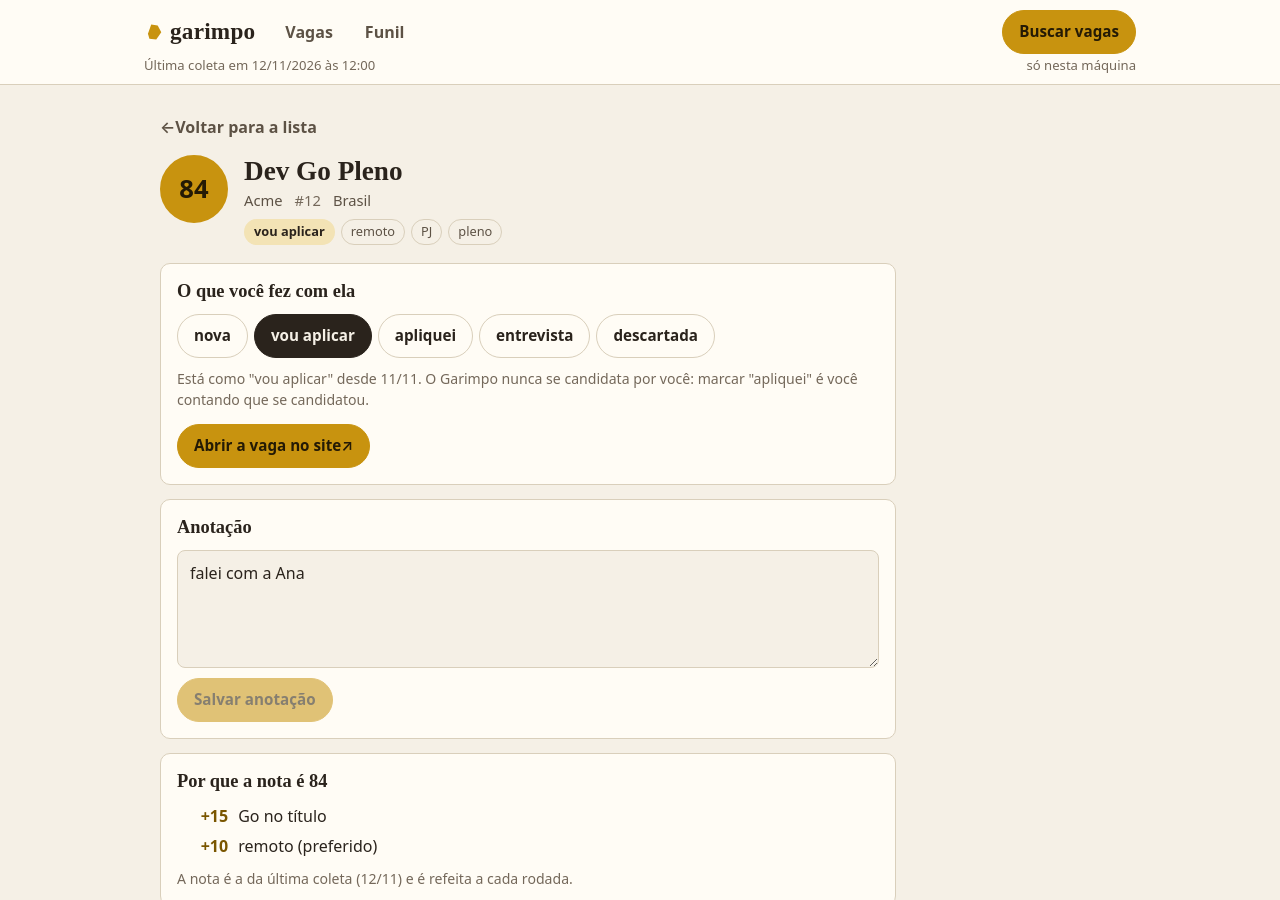
Test: the posting › marks any state from the posting
This screenshot has width=1280, height=900.
Click the button "entrevista": (535, 336) [479, 314, 590, 358]
(page scrolled)
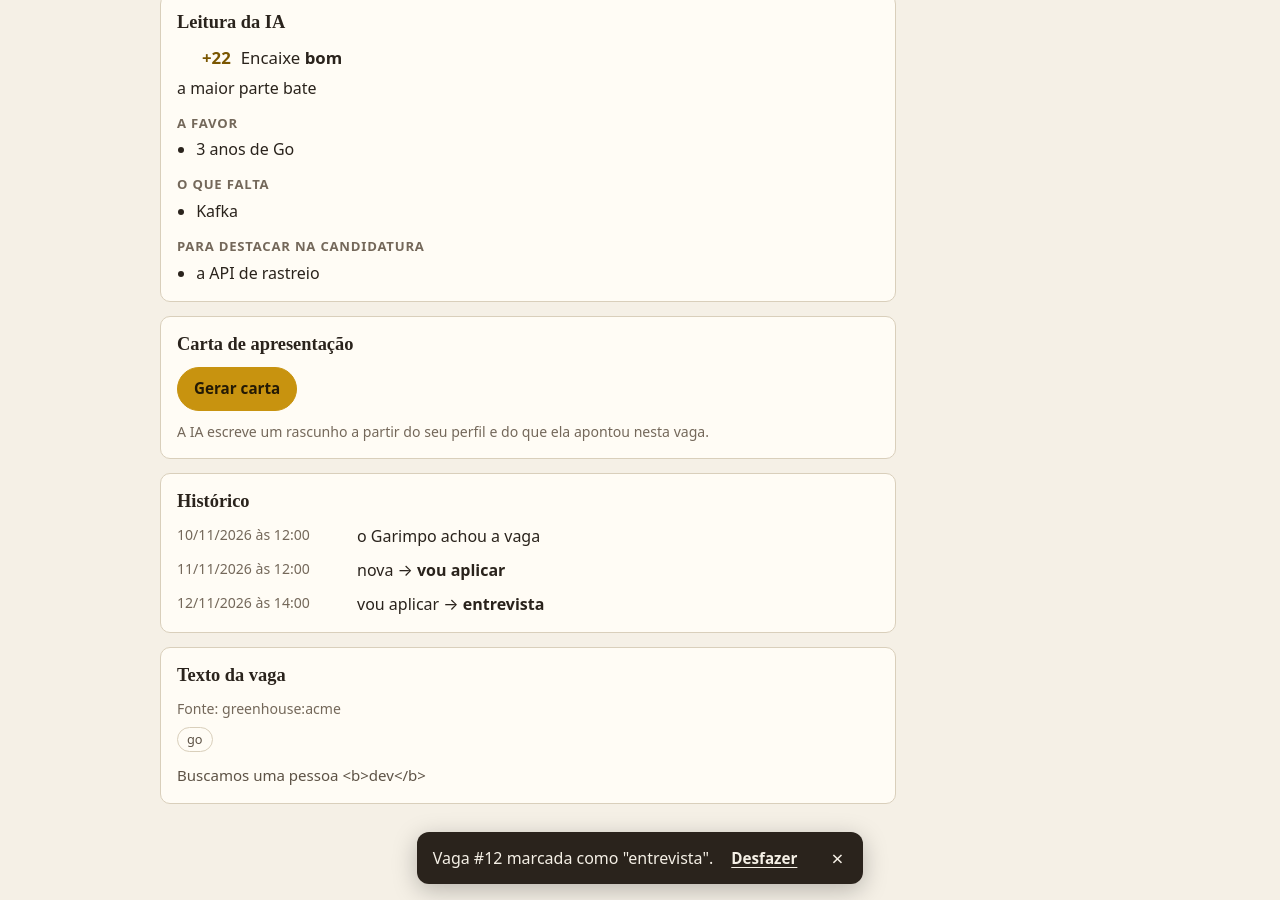
Expected: the element "Histórico" shows "vou aplicar → entrevista", [160, 473, 896, 633]
